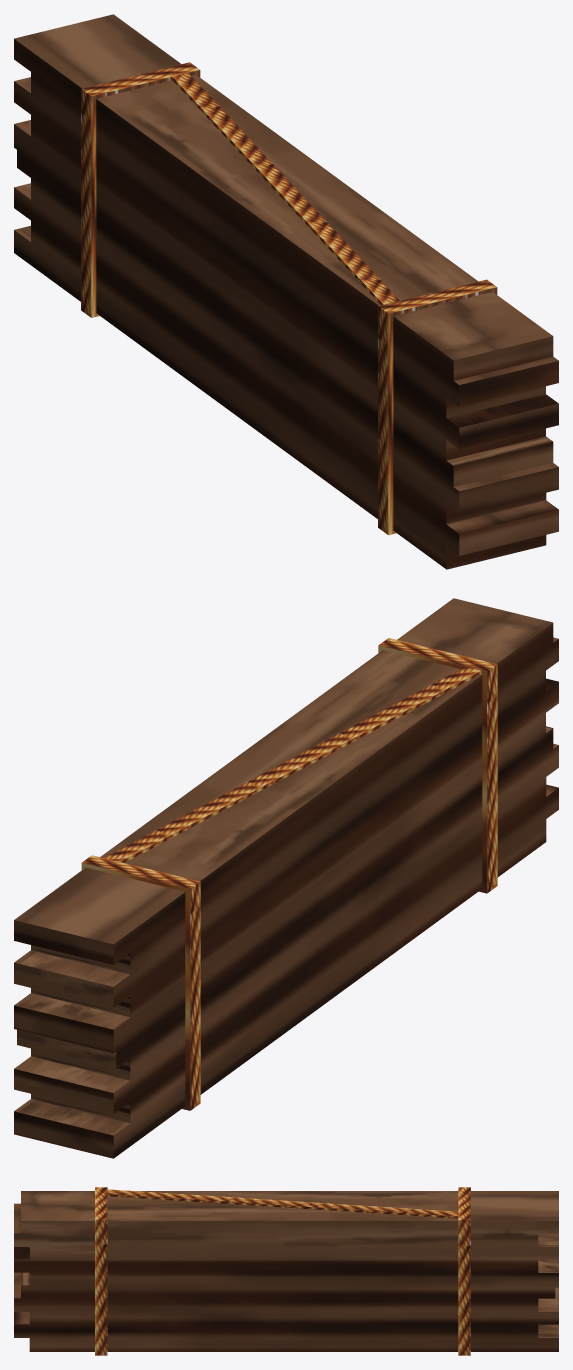
File: DJG_BoundPlanks10.fbx
3 views of the same model, one above another, from view 1: azimuth 30°, elevation 25°; view 2: azimuth 150°, elevation 25°; view 3: azimuth 270°, elevation 25° (orthographic). The views are drawn at different scales.
Visible parts, largest first — view 1: B_Planksx10; view 2: B_Planksx10; view 3: B_Planksx10.
Part boxes in pixels (x1,y1,x2,y2): B_Planksx10: (14, 14, 558, 569); B_Planksx10: (14, 598, 558, 1158); B_Planksx10: (14, 1187, 558, 1355).
Bounding box in the file's own units: 0.086 × 0.1673 × 0.6092.
